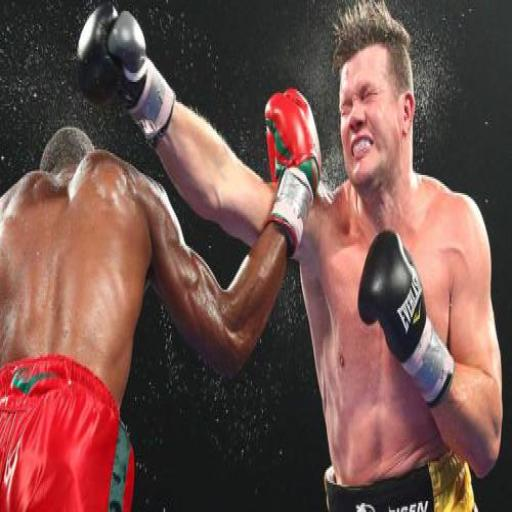boxing: (86, 0, 512, 512)
